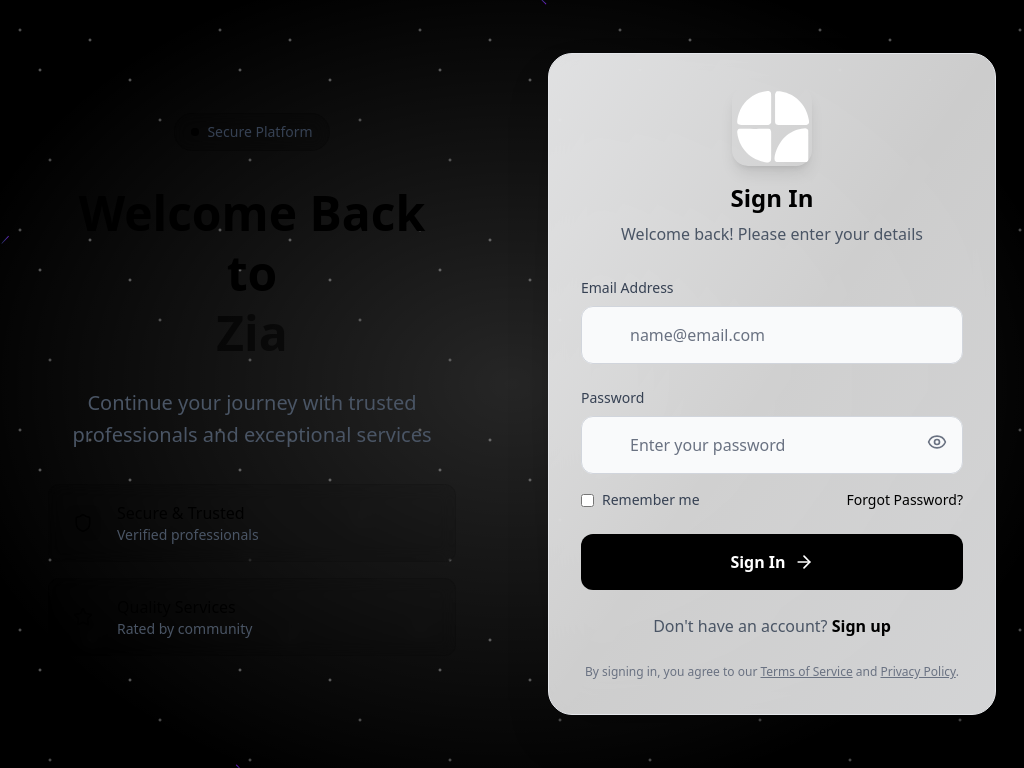
Scenario: SignIn › shows loading state during submission
The image size is (1024, 768).
Type "test@example.com" into the field with placeholder "name@email.com" at (772, 335), box [581, 306, 963, 364]
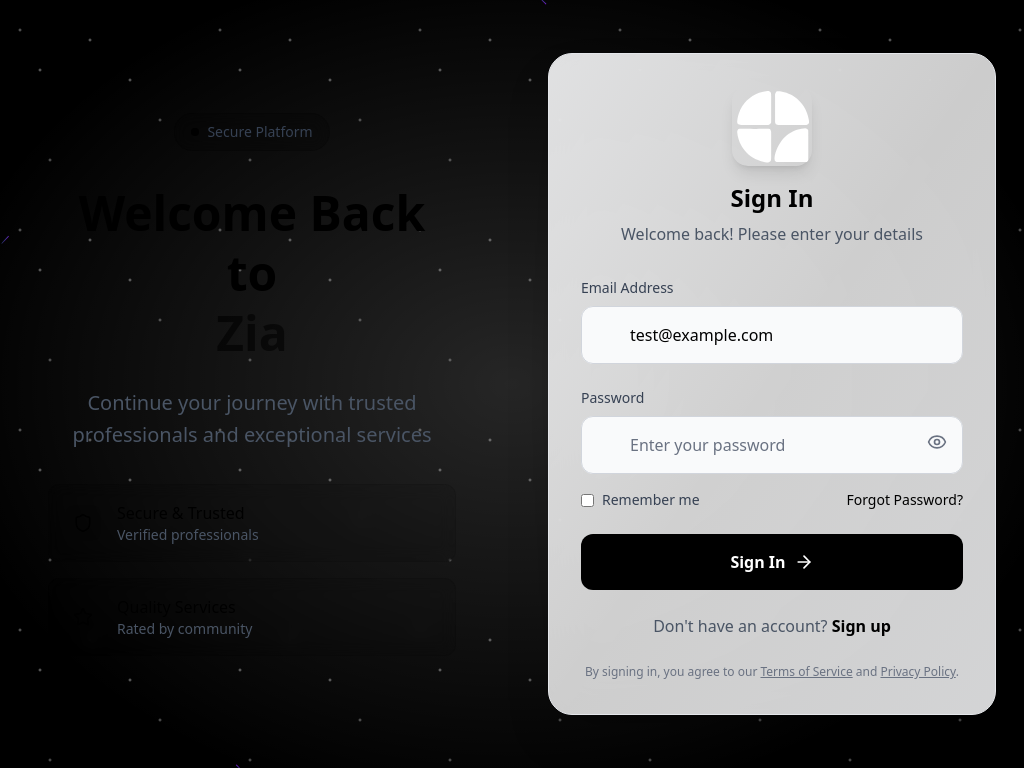
Type "password123" into the password field with placeholder "Enter your password" at (772, 445), box [581, 416, 963, 474]
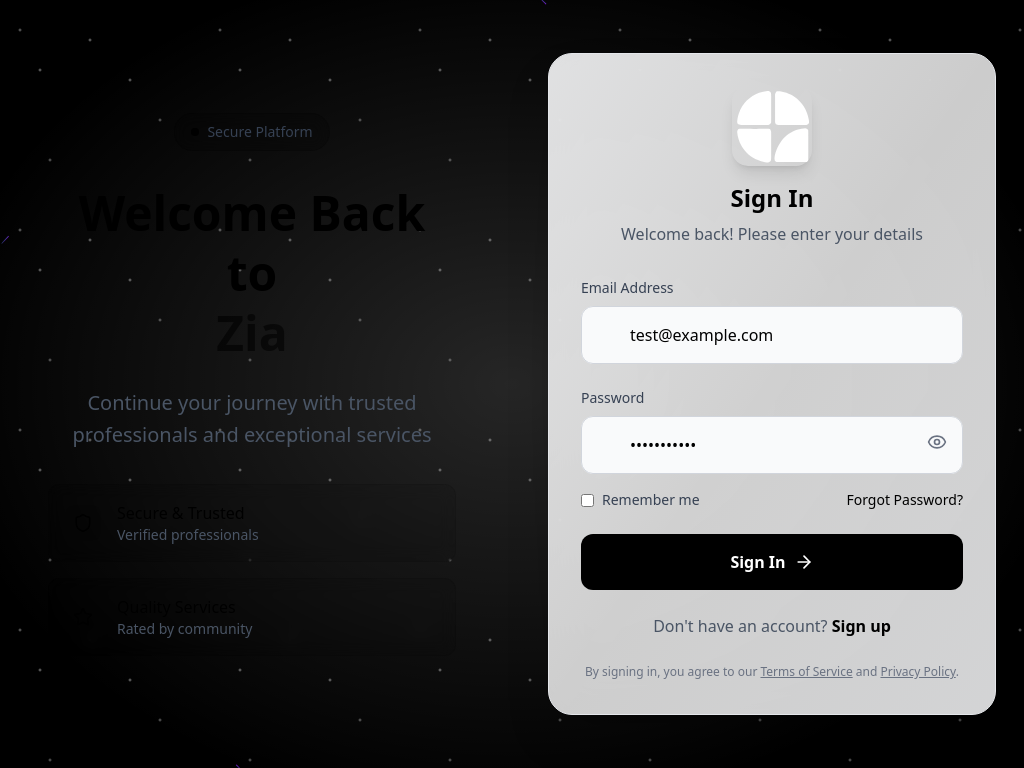
Click the button "Sign In" at (772, 562), box [581, 534, 963, 590]
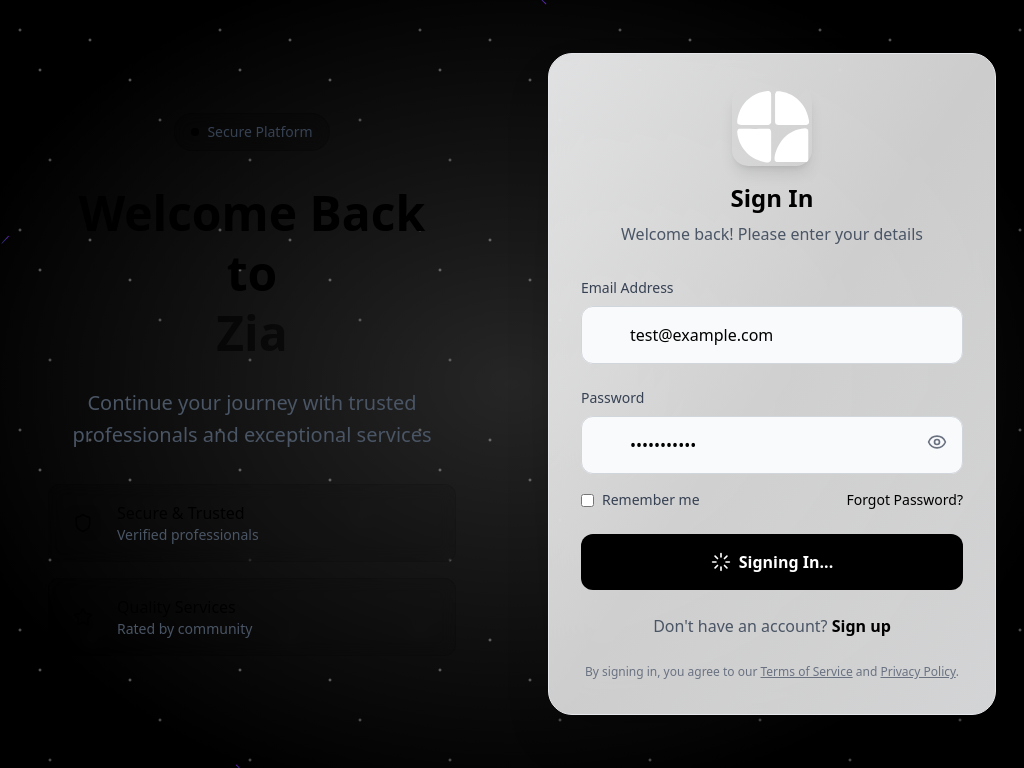
Result: the button named "sign in" is disabled at [581, 534, 963, 590]
